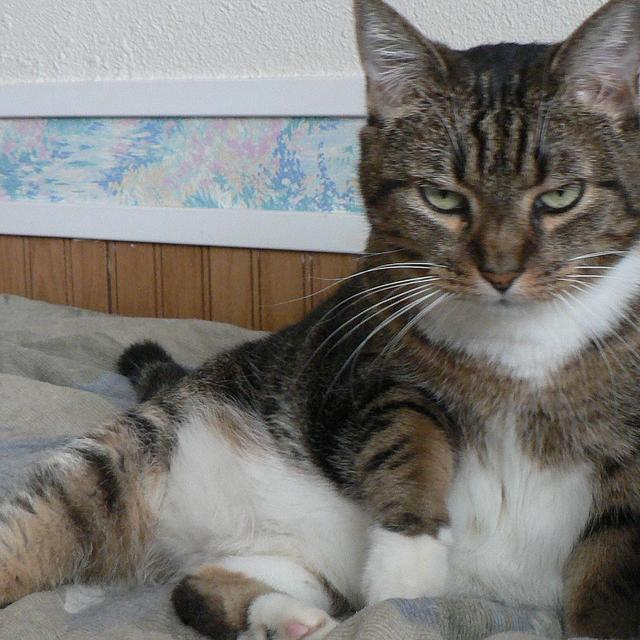animals: (359, 0, 638, 289)
